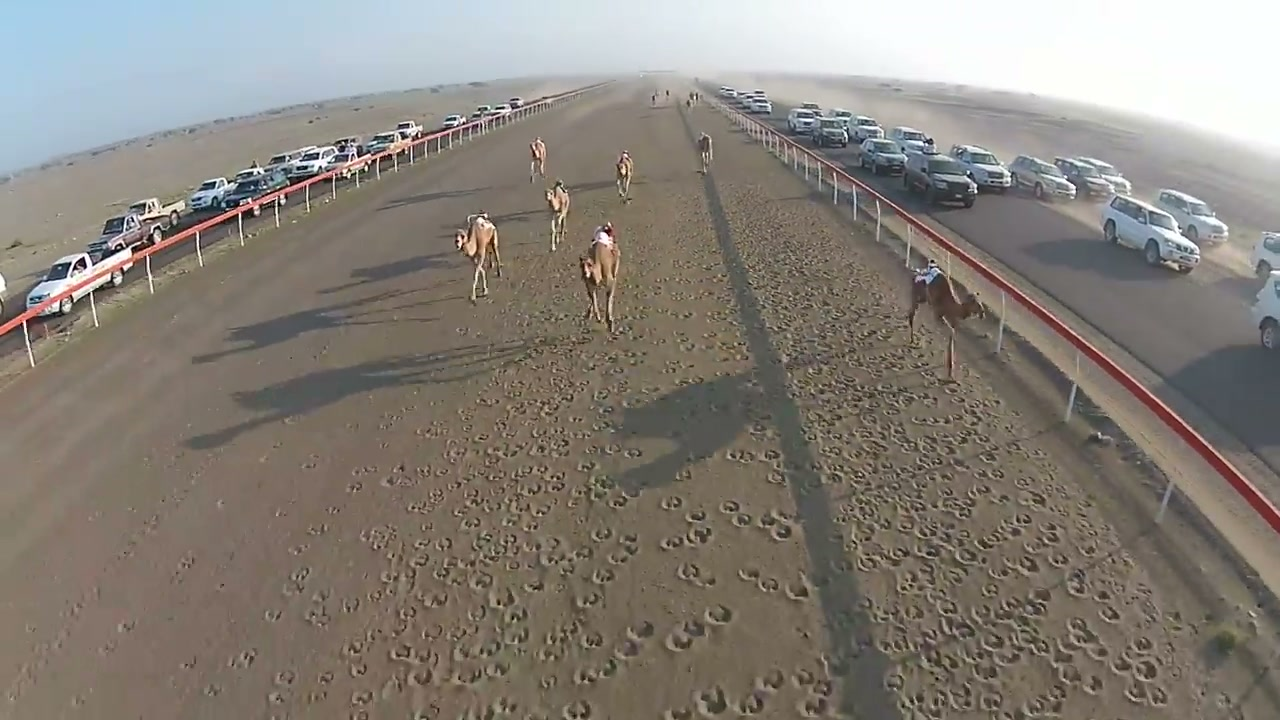animal_foot_print: (13, 154, 1217, 719)
